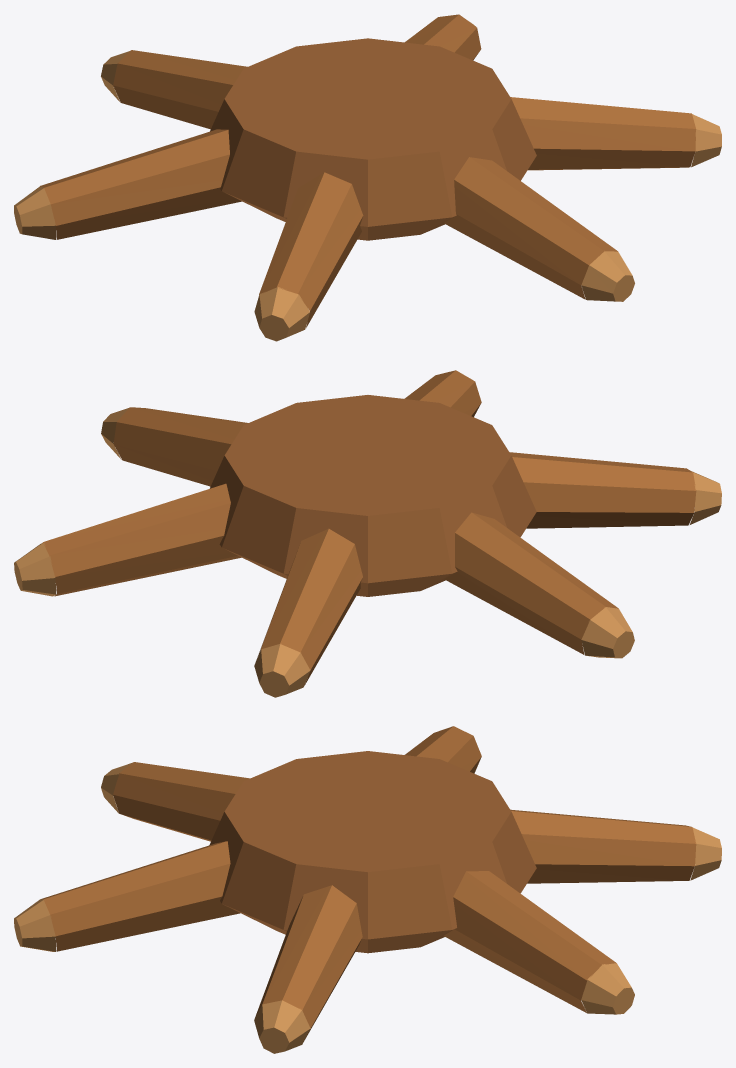
Rendered from FibrousRoot.glb.
The picture shows the model from 3 angles, top to bottom: view 1: azimuth 30°, elevation 25°; view 2: azimuth 150°, elevation 25°; view 3: azimuth 270°, elevation 25°; orthographic projection.
Parts seen in each view (by area): view 1: FibrousRoot_FibrousRoots, FibrousRoot_FibrousCrown, FibrousRoot_FibrousTips; view 2: FibrousRoot_FibrousRoots, FibrousRoot_FibrousCrown, FibrousRoot_FibrousTips; view 3: FibrousRoot_FibrousRoots, FibrousRoot_FibrousCrown, FibrousRoot_FibrousTips.
Part boxes in pixels (x1,y1,x2,y2): FibrousRoot_FibrousRoots: (40, 14, 696, 327); FibrousRoot_FibrousCrown: (210, 38, 536, 240); FibrousRoot_FibrousTips: (14, 20, 721, 341); FibrousRoot_FibrousRoots: (43, 370, 696, 685); FibrousRoot_FibrousCrown: (210, 395, 536, 596); FibrousRoot_FibrousTips: (14, 378, 721, 697); FibrousRoot_FibrousRoots: (41, 726, 696, 1039); FibrousRoot_FibrousCrown: (209, 751, 536, 953); FibrousRoot_FibrousTips: (14, 762, 721, 1053).
Size of the model in its own units: 3.7 by 0.6 by 3.7.
